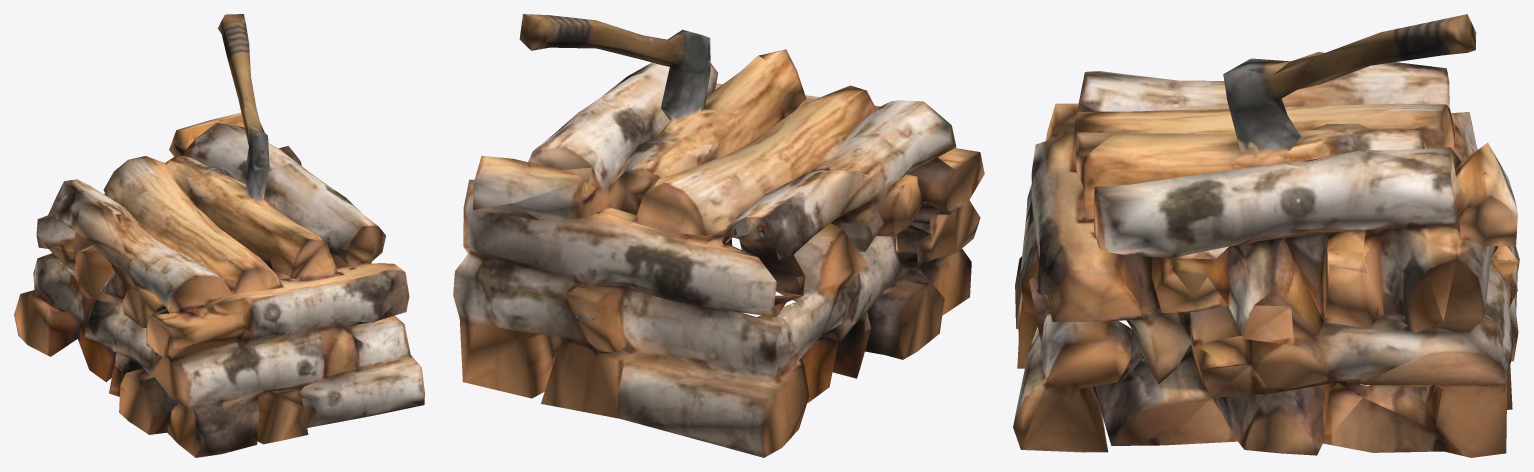
Rendered from firewood.phone.glb.
The picture shows the model from 3 angles, left to right: view 1: azimuth 30°, elevation 25°; view 2: azimuth 150°, elevation 25°; view 3: azimuth 270°, elevation 25°; orthographic projection. The views are drawn at different scales.
Visible parts, largest first — view 1: firewood.raw; view 2: firewood.raw; view 3: firewood.raw.
Part boxes in pixels (x1,y1,x2,y2): firewood.raw: (14, 14, 424, 457); firewood.raw: (453, 14, 984, 457); firewood.raw: (1013, 14, 1519, 457).
Size of the model in its own units: 0.5774 by 0.6 by 0.6777.
1 material, 1 textured.
